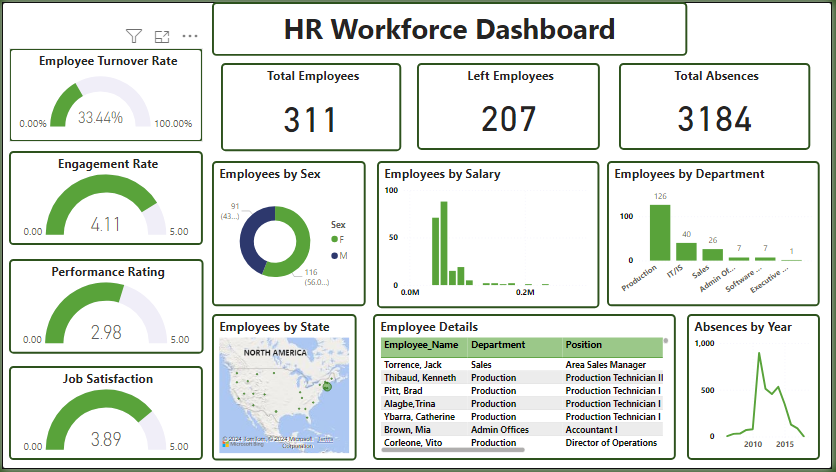

The page's visual inventory and layout, read from the dashboard file:
{"tool":"powerbi","page":{"name":"Page 1","canvas":[1280,720],"ordinal":0},"visuals":[{"type":"card","title":"Total Employees","fields":{"Values":["HRDataset_v14.EmpID"]},"box":[337.7,94.1,277.6,135.7],"z":0},{"type":"card","title":"Total Absences","fields":{"Values":["HRDataset_v14.Absences"]},"box":[951.5,94.1,294.6,134.2],"z":1000},{"type":"donutChart","title":"Employees by Sex","fields":{"Category":["HRDataset_v14.Sex"],"Y":["HRDataset_v14.left employees"]},"box":[323.9,245.2,237.5,223.6],"z":4000},{"type":"gauge","fields":{"Y":["HRDataset_v14.Employee Turnover Rate"]},"box":[10.8,70.9,299.2,145],"z":5000},{"type":"columnChart","title":"Employees by Department","fields":{"Category":["HRDataset_v14.Department"],"Y":["HRDataset_v14.left employees"]},"box":[933,245.2,328.5,223.6],"z":6000},{"type":"gauge","title":"Performance Rating","fields":{"Y":["HRDataset_v14.PerfScoreID"]},"box":[10.5,396,299.7,146.1],"z":7000},{"type":"gauge","title":"Job Satisfaction","fields":{"Y":["HRDataset_v14.EmpSatisfaction"]},"box":[10.8,561.3,299.2,145],"z":8000},{"type":"gauge","title":"Engagement Rate","fields":{"Y":["HRDataset_v14.EngagementSurvey"]},"box":[10.8,229.8,299.2,145],"z":9000},{"type":"tableEx","title":"Employee Details","fields":{"Values":["HRDataset_v14.Employee_Name","HRDataset_v14.Department","HRDataset_v14.Position","HRDataset_v14.DateofHire","HRDataset_v14.DateofTermination"]},"box":[572.1,481.2,467.3,225.2],"z":10000},{"type":"textbox","box":[323.9,0,732.5,83.3],"z":11000},{"type":"columnChart","title":"Employees by Salary","fields":{"Category":["HRDataset_v14.Salary (bins)"],"Y":["HRDataset_v14.left employees"]},"box":[578.3,245.5,343.3,227.4],"z":11001},{"type":"map","title":"Employees by State","fields":{"Category":["HRDataset_v14.State"],"Size":["HRDataset_v14.left employees"]},"box":[323.8,481.9,222.9,225.9],"z":11002},{"type":"card","title":"Left Employees","fields":{"Values":["HRDataset_v14.left employees"]},"box":[640,94.1,282.2,134.2],"z":11003},{"type":"lineChart","title":"Absences by Year","fields":{"Y":["HRDataset_v14.Absences"],"Category":["HRDataset_v14.DateofHire.Variation.Date Hierarchy.Year"]},"box":[1056.4,481.2,205.1,225.2],"z":11004}]}

Visuals, with their boxes in screenshot pixels (x1, y1, x2, y2), scaled from the page's 1280x720 canvas onto the 836x472 screenshot:
"Total Employees" card: select_region(221, 62, 402, 151)
"Total Absences" card: select_region(621, 62, 814, 150)
"Employees by Sex" donutChart: select_region(212, 161, 367, 307)
gauge - HRDataset_v14.Employee Turnover Rate: select_region(7, 46, 202, 142)
"Employees by Department" columnChart: select_region(609, 161, 824, 307)
"Performance Rating" gauge: select_region(7, 260, 203, 355)
"Job Satisfaction" gauge: select_region(7, 368, 202, 463)
"Engagement Rate" gauge: select_region(7, 151, 202, 246)
"Employee Details" tableEx: select_region(374, 315, 679, 463)
textbox: select_region(212, 0, 690, 55)
"Employees by Salary" columnChart: select_region(378, 161, 602, 310)
"Employees by State" map: select_region(211, 316, 357, 464)
"Left Employees" card: select_region(418, 62, 602, 150)
"Absences by Year" lineChart: select_region(690, 315, 824, 463)
